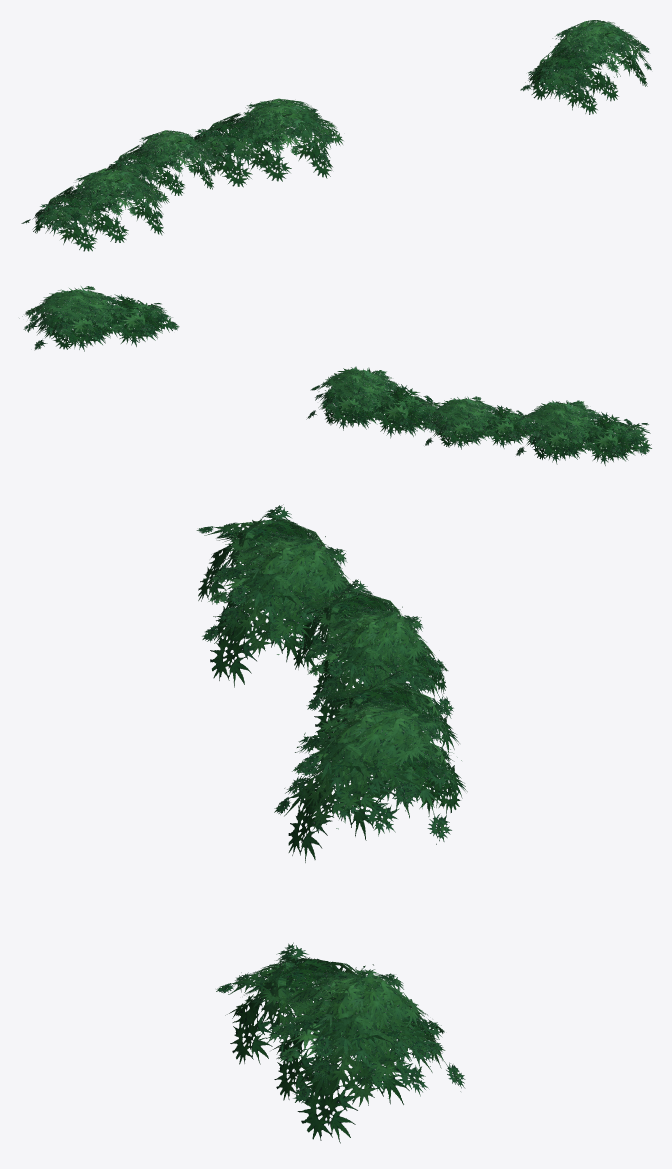
Rendered from Area_10_40.fbx.
3 renders of one model, top to bottom at view 1: azimuth 30°, elevation 25°; view 2: azimuth 150°, elevation 25°; view 3: azimuth 270°, elevation 25°, orthographic. The views are drawn at different scales.
Visible parts, largest first — view 1: Area_10_40; view 2: Area_10_40; view 3: Area_10_40.
Boxes of the visible parts, x1=… form: Area_10_40: x1=21, y1=20, x2=651, y2=251; Area_10_40: x1=19, y1=286, x2=651, y2=465; Area_10_40: x1=196, y1=504, x2=467, y2=1143.
Bounding box in the file's own units: 3761 × 446 × 752.
